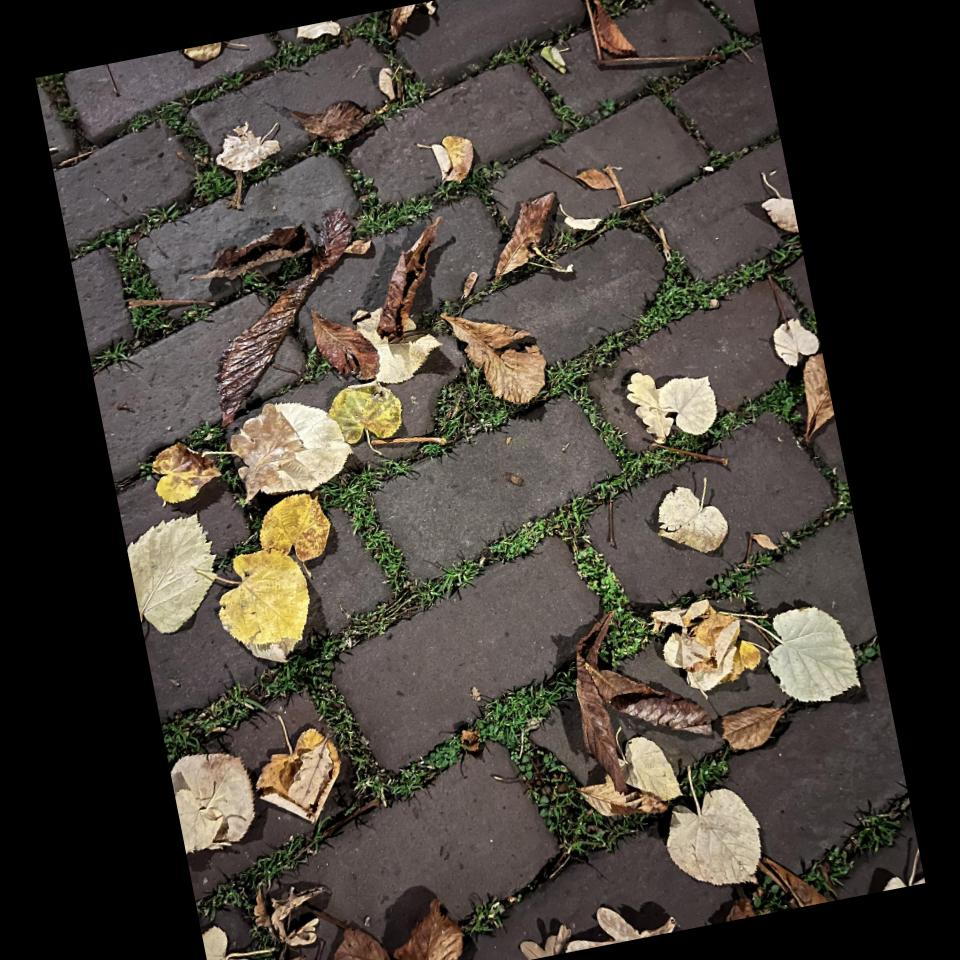weed: (161, 452, 690, 759), (196, 729, 463, 914), (545, 236, 800, 403), (515, 741, 653, 865), (271, 9, 426, 103), (796, 804, 925, 899), (320, 470, 408, 591), (473, 663, 576, 757), (702, 379, 802, 450), (127, 102, 217, 178), (432, 161, 503, 206), (358, 195, 433, 234), (114, 241, 160, 300), (132, 306, 171, 339), (314, 678, 338, 713), (194, 179, 224, 202), (334, 710, 353, 740)
